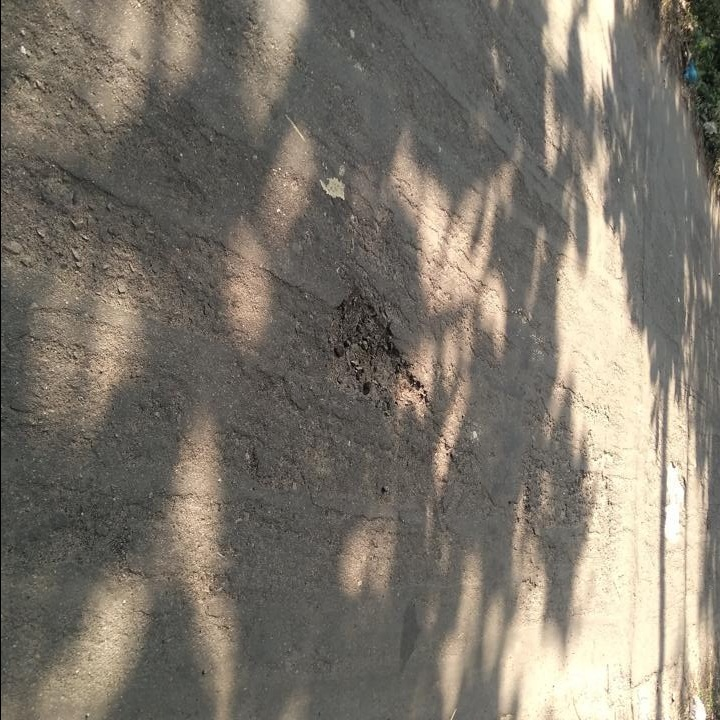pothole: (323, 284, 431, 418)
